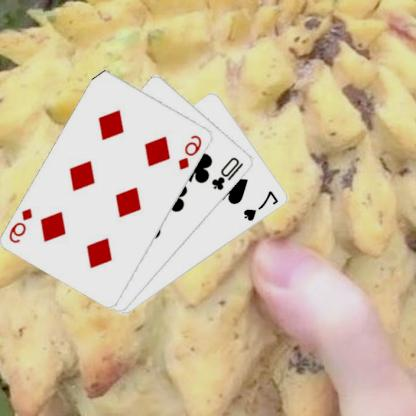10C: (210, 154, 247, 192)
6D: (8, 205, 36, 245), (177, 132, 205, 171)
7S: (243, 188, 282, 223)
